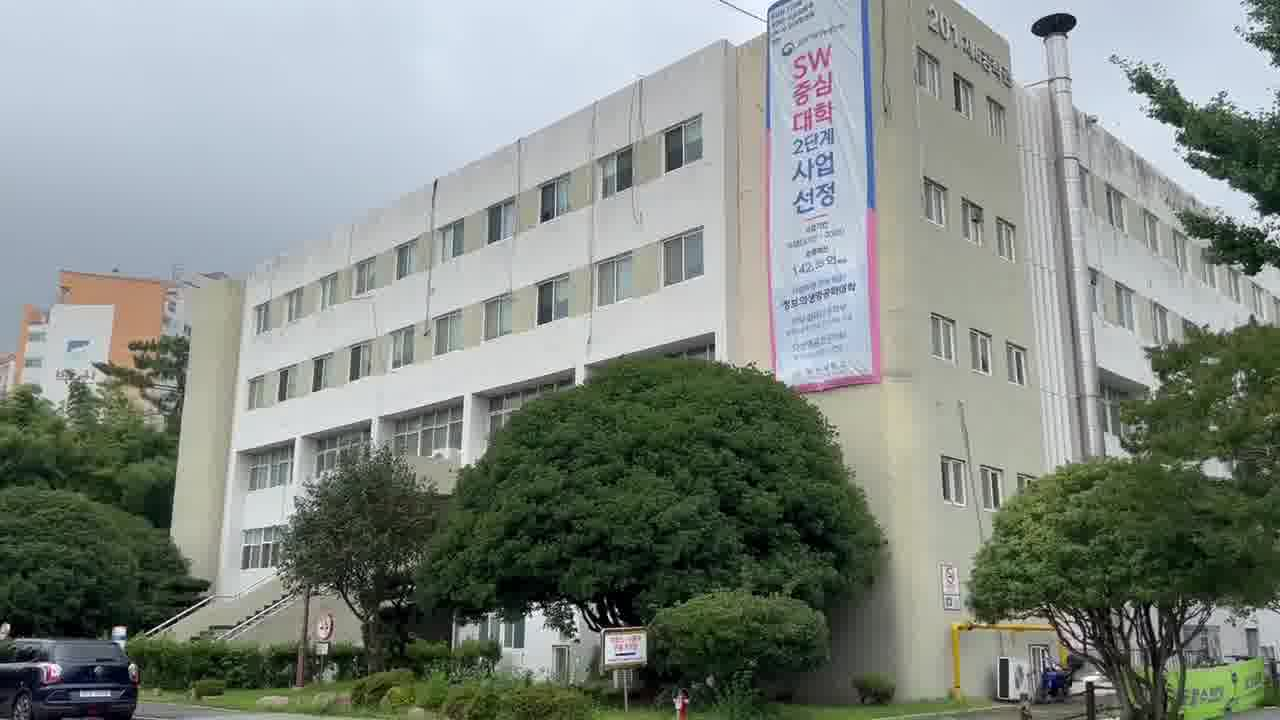low: (186, 79, 757, 377)
